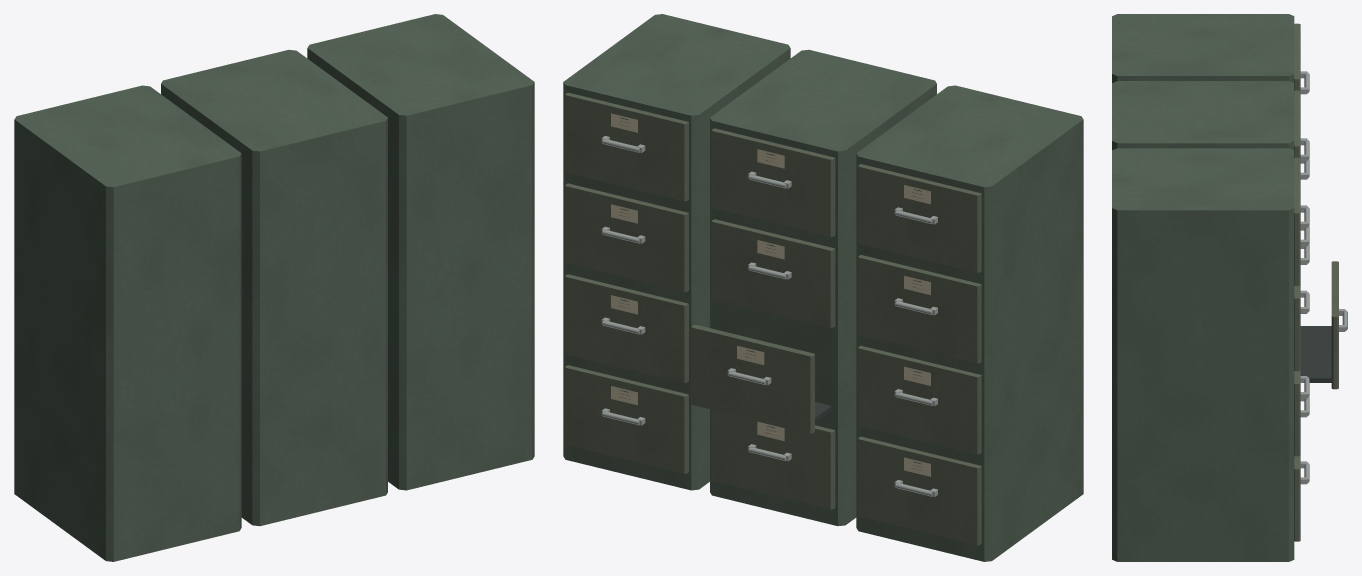
File: SM_ArchiveProps_FilingCabinets_LOD2.glb
The picture shows the model from 3 angles, left to right: view 1: azimuth 30°, elevation 25°; view 2: azimuth 150°, elevation 25°; view 3: azimuth 270°, elevation 25°; orthographic projection. The views are drawn at different scales.
Visible parts, largest first — view 1: SM_ArchiveProps_FilingCabinets_LOD2; view 2: SM_ArchiveProps_FilingCabinets_LOD2; view 3: SM_ArchiveProps_FilingCabinets_LOD2.
Part boxes in pixels (bbox=[...]): SM_ArchiveProps_FilingCabinets_LOD2: bbox=[14, 14, 534, 561]; SM_ArchiveProps_FilingCabinets_LOD2: bbox=[563, 14, 1083, 561]; SM_ArchiveProps_FilingCabinets_LOD2: bbox=[1112, 14, 1347, 561].
Size of the model in its own units: 1.58 by 1.32 by 0.802.
Materials: 5 (3 with a texture image).
